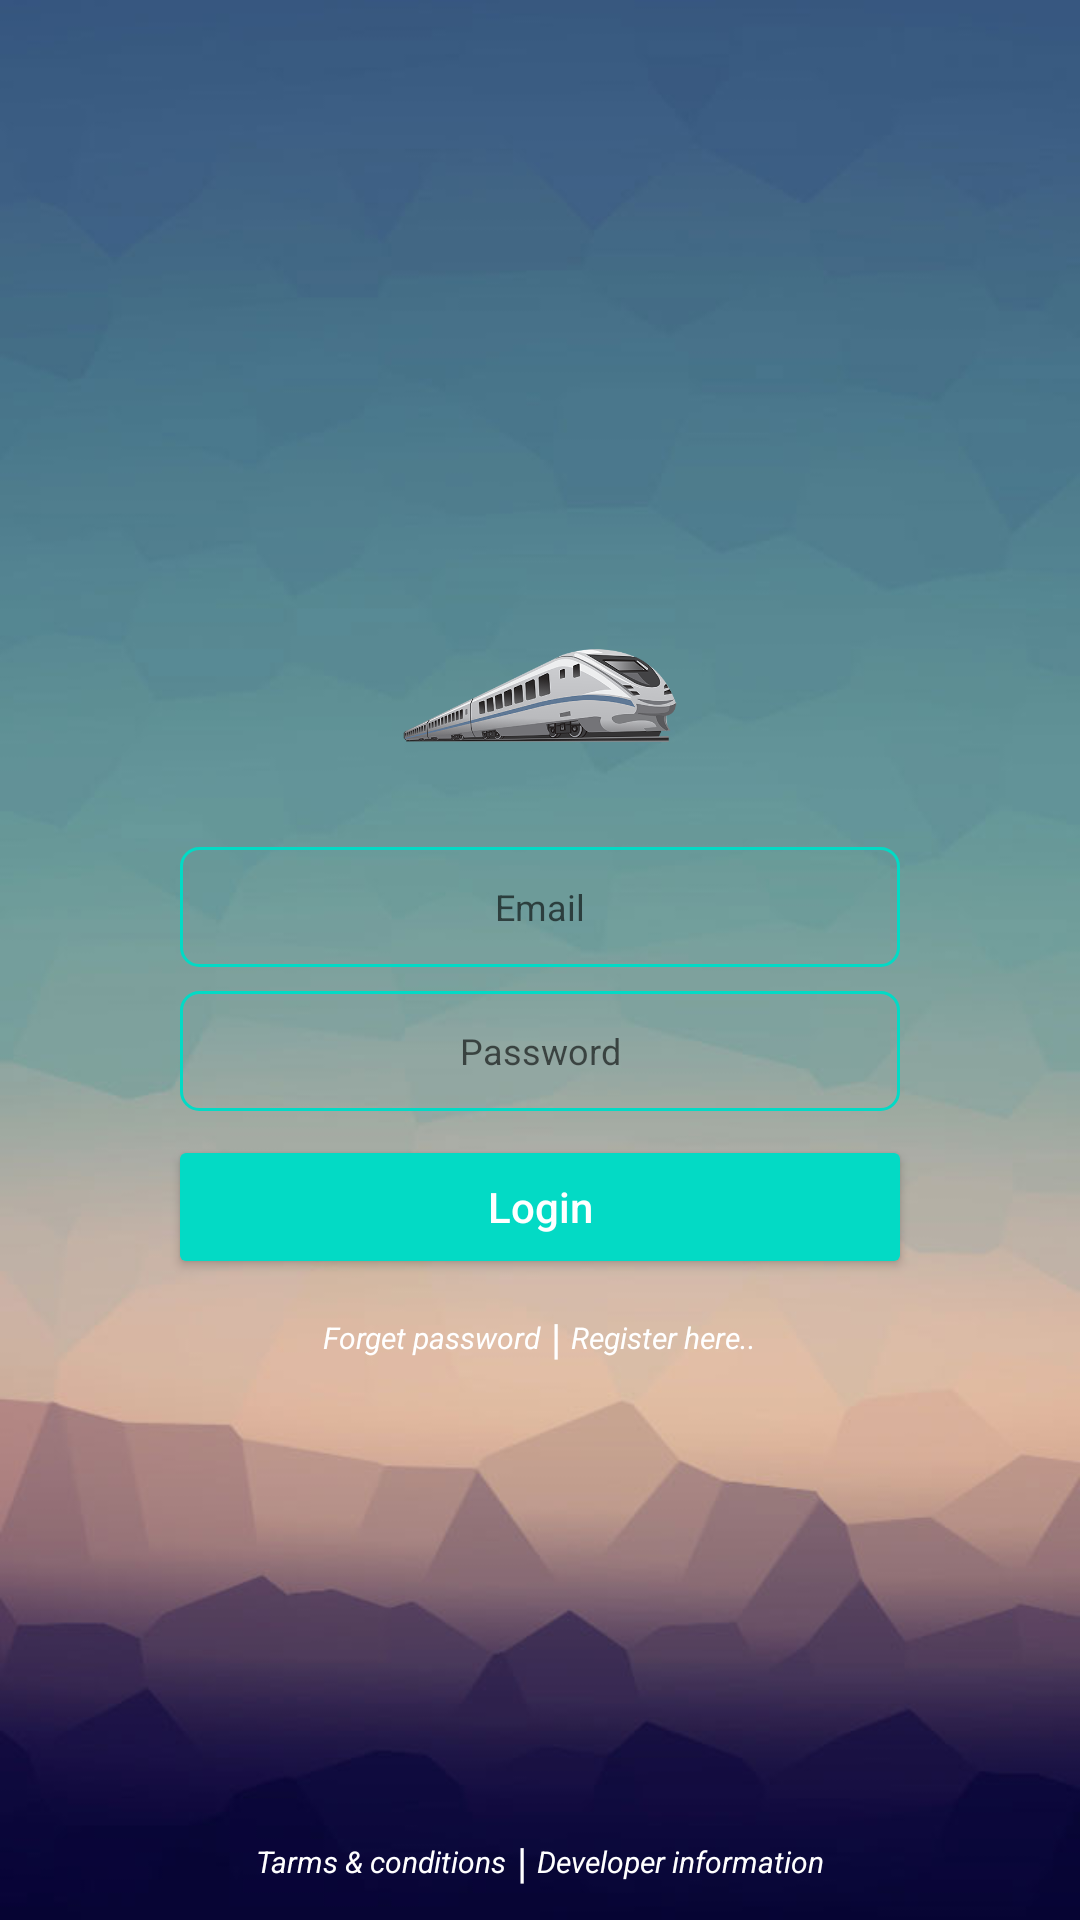

Screen size 1080 x 1920. Icon name, then its center in pixels as point (x, y):
train: point (540, 695)
